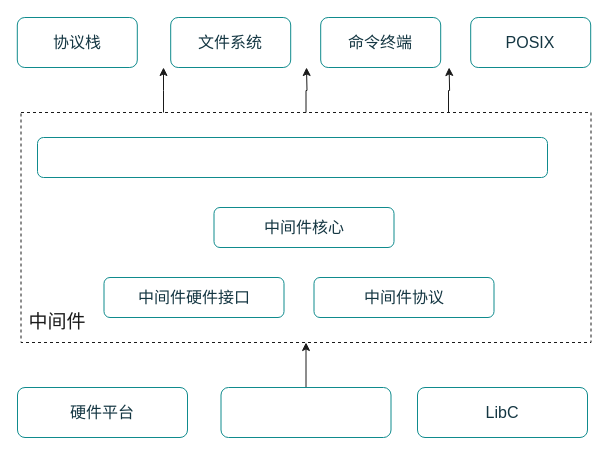
This 609x455 diagram has some shape labels left out. The box of each missing label's shape, as (x1, y1, x2, y2) in pixels:
中间件应用接口: (36, 136, 548, 178)
外设组件: (220, 386, 391, 438)
